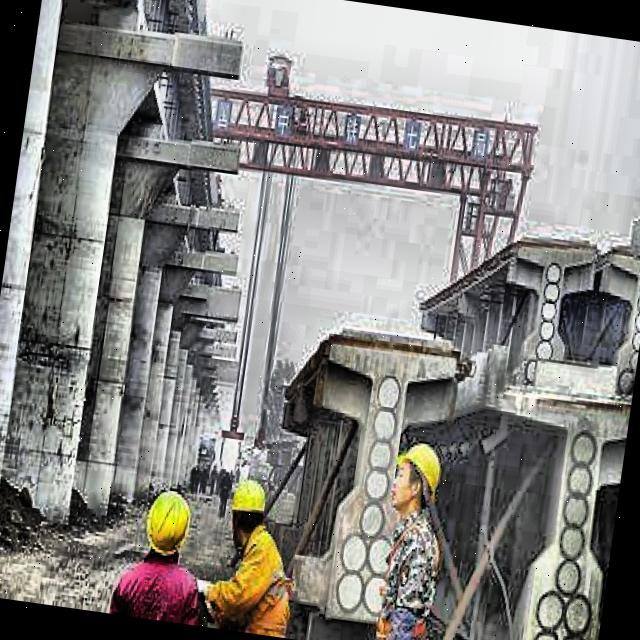helmet: (384, 432, 448, 522), (136, 482, 198, 568), (222, 470, 274, 546)
